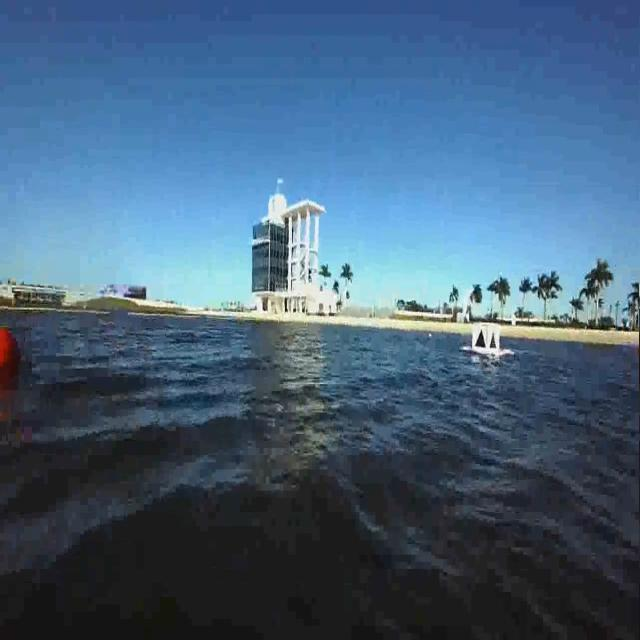red-buoy: (0, 326, 21, 376)
